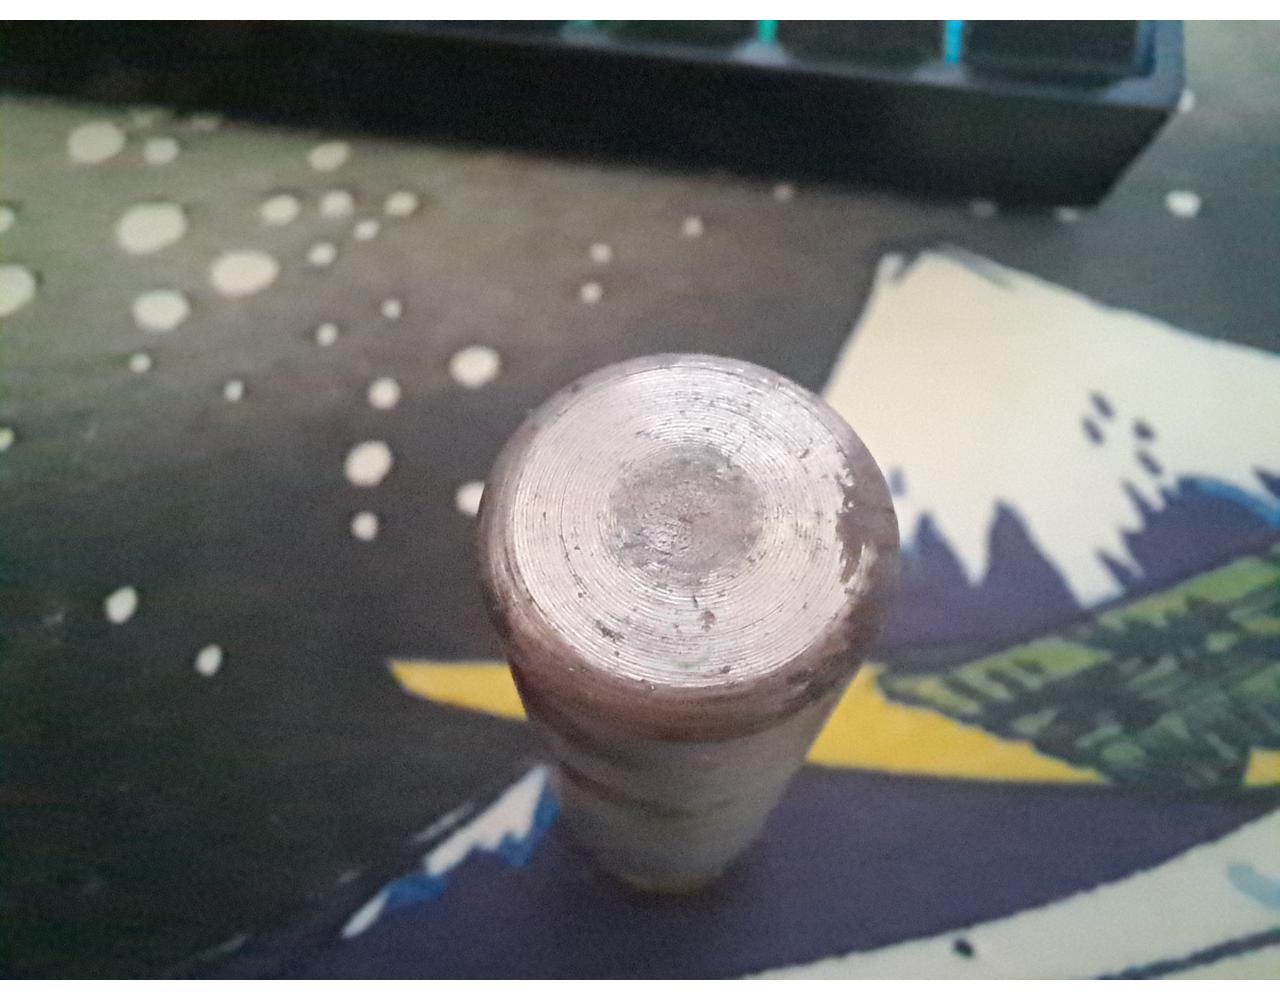defect: (648, 613, 721, 677)
planson: (473, 356, 898, 895)
